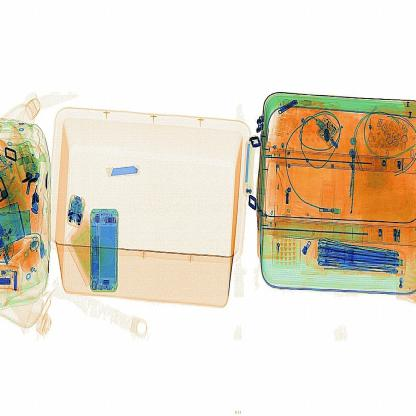pliers: (101, 154, 152, 190)
